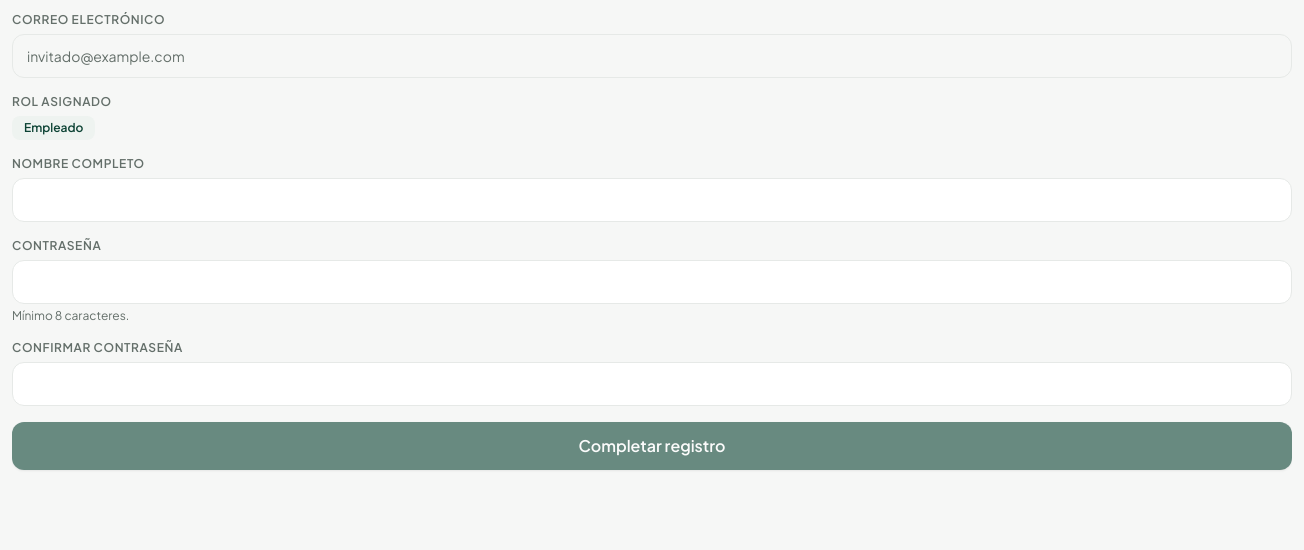
Test case: HU29: M5.2 - RegisterForm › manejo de errores › ante un AuthClientError muestra el mensaje seguro del cliente en un alert accesible
The width and height of the screenshot is (1304, 550).
Step 1. Type "Ada Lovelace" into the field labelled "Nombre completo" → (652, 200), box x1=12 y1=178 x2=1292 y2=222
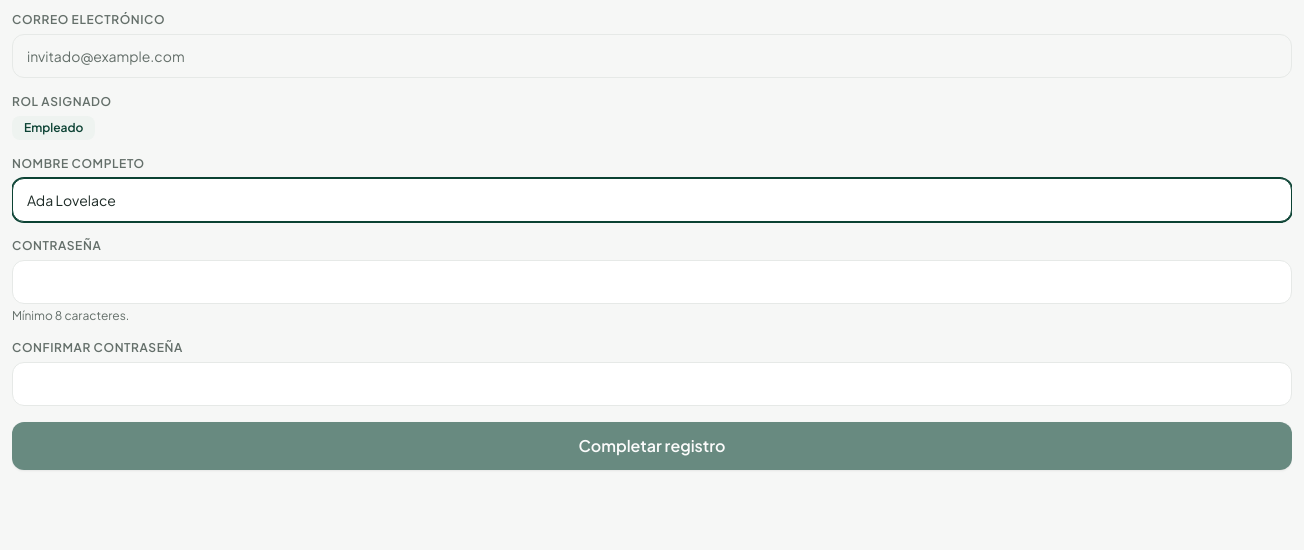
Step 2. Type "clave-segura-123" into the password field labelled "Contraseña" → (652, 282), box x1=12 y1=260 x2=1292 y2=304
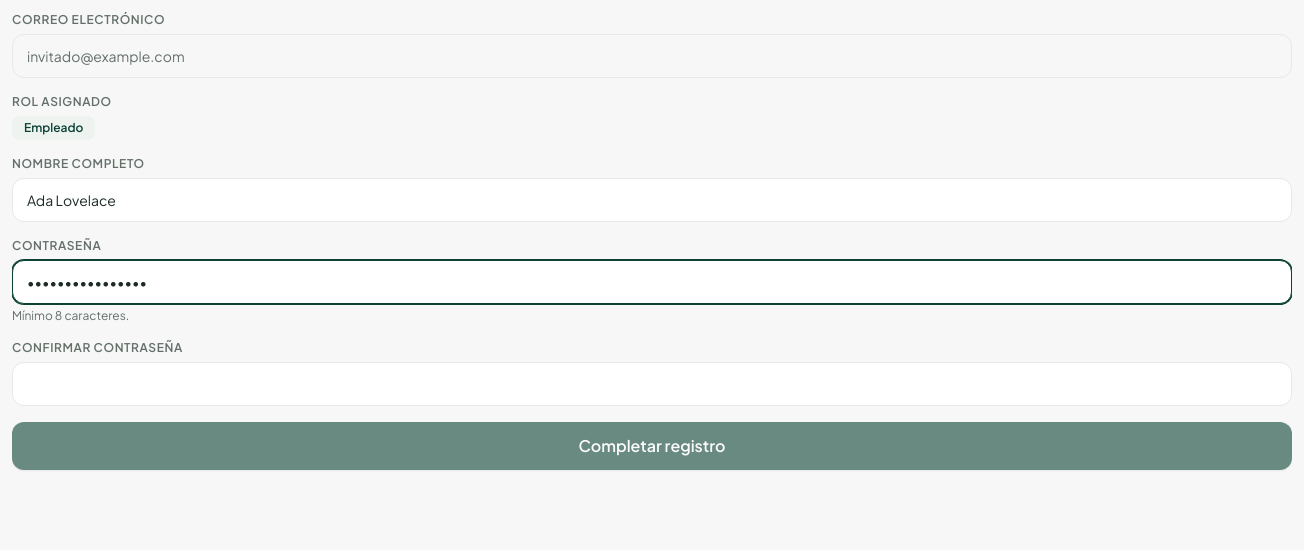
Step 3. Type "clave-segura-123" into the password field labelled "Confirmar contraseña" → (652, 384), box x1=12 y1=362 x2=1292 y2=406
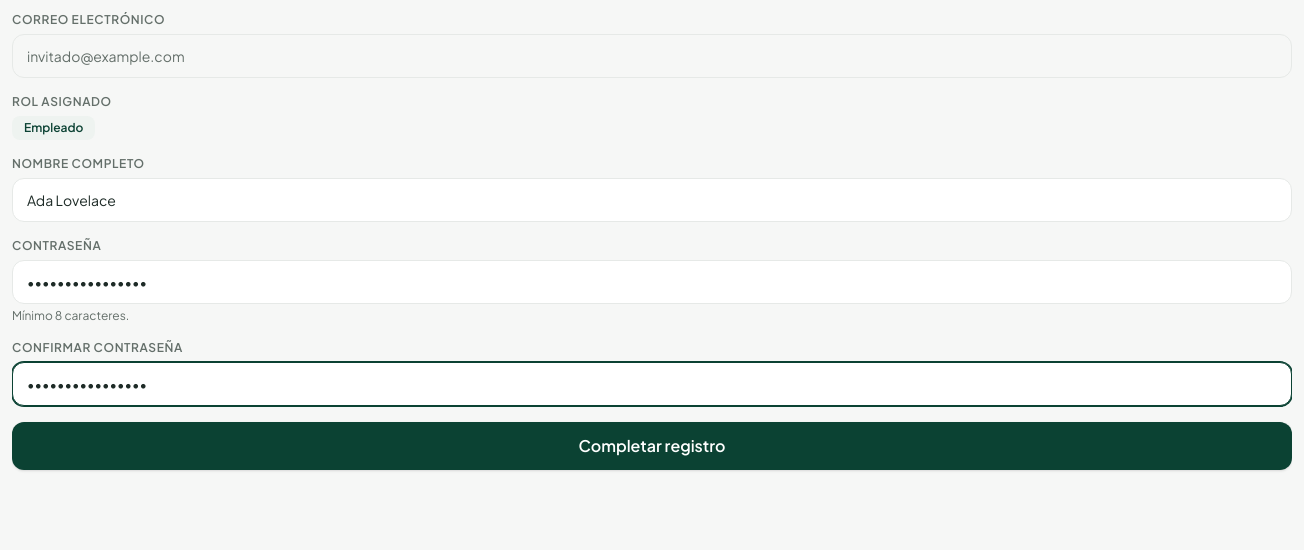
Step 4. Click the button "Completar registro" → click(652, 446), box x1=12 y1=422 x2=1292 y2=470
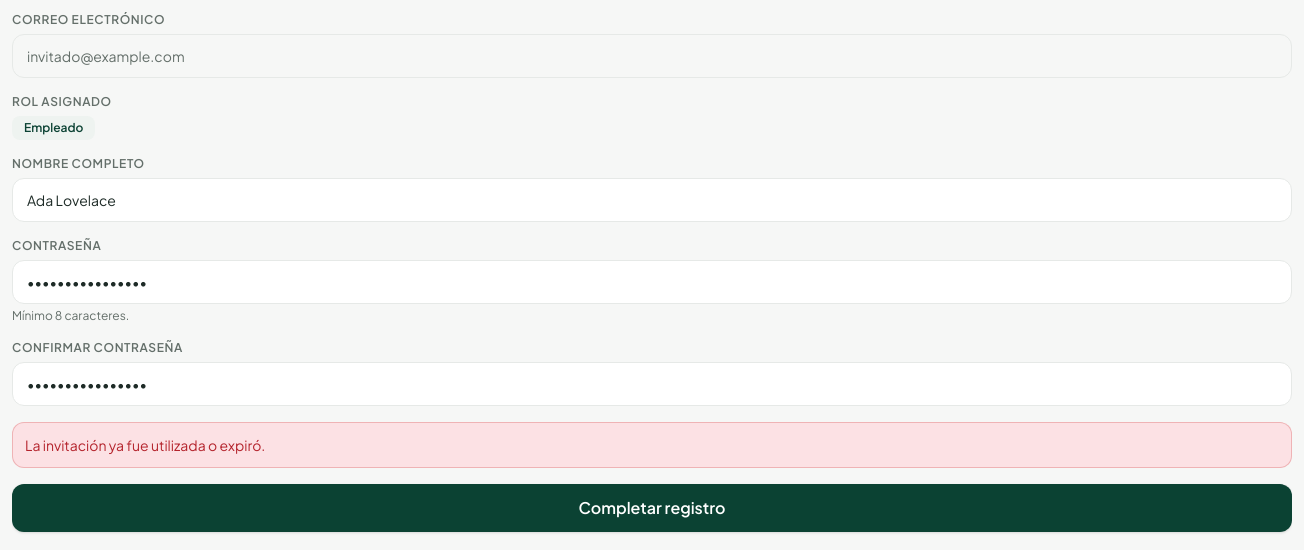
Check: the message reads "La invitación ya fue utilizada o expiró.", box x1=25 y1=436 x2=265 y2=454
